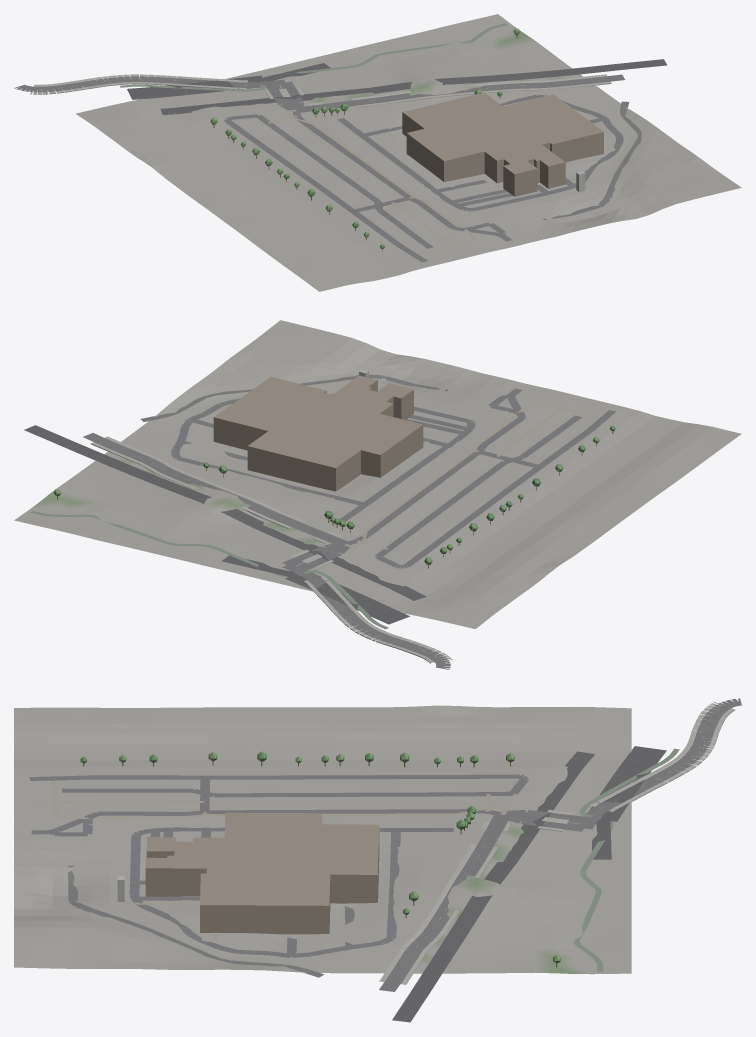
Rendered from tile_1_6.glb.
3 renders of one model, top to bottom at view 1: azimuth 30°, elevation 25°; view 2: azimuth 150°, elevation 25°; view 3: azimuth 270°, elevation 25°, orthographic. The views are drawn at different scales.
Visible parts, largest first — view 1: terrain, roads, buildings, sidewalks, paths, props; view 2: terrain, roads, buildings, sidewalks, paths, props; view 3: terrain, roads, buildings, sidewalks, paths, props.
Boxes of the visible parts, x1,y1,x2,y2 form: terrain: (76,14,741,291); roads: (14,59,666,262); buildings: (402,92,603,196); sidewalks: (30,74,611,112); paths: (120,23,610,254); props: (210,28,520,251); terrain: (14,320,741,629); roads: (24,374,616,669); buildings: (213,369,423,491); sidewalks: (90,436,452,663); paths: (30,403,602,629); props: (53,425,615,568); terrain: (14,705,631,974); roads: (29,698,741,1022); buildings: (117,812,379,934); sidewalks: (379,702,734,985); paths: (51,748,679,971); props: (80,751,560,967).
Bounding box in the file's own units: 315 × 15.11 × 302.
